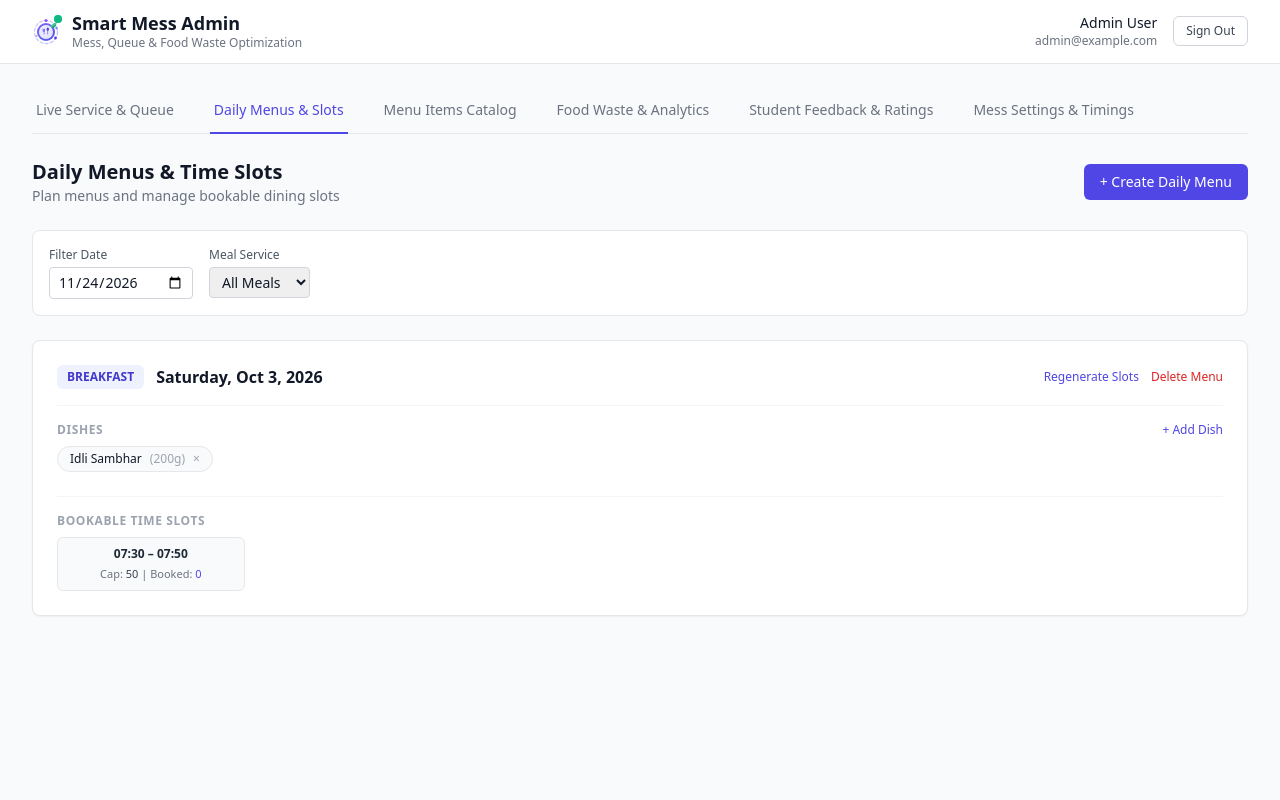
Test case: Admin Management UI (Phase 2) › should switch to Mess Settings tab and show dining hall details
The image size is (1280, 800).
Click the button "Mess Settings & Timings" at (1054, 110), box [969,88,1138,134]
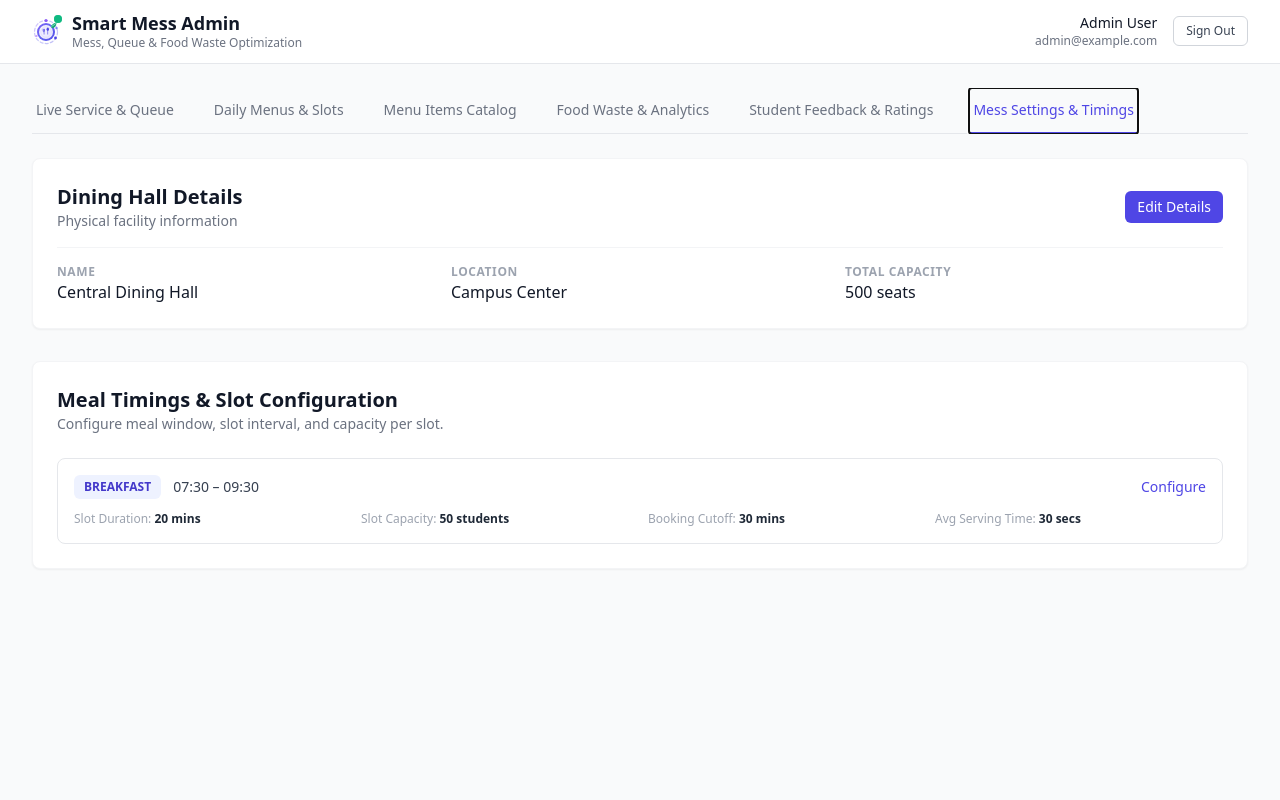
Expected: the text "Central Dining Hall" is shown, [57,280,198,302]
Expected: the text "500 seats" is shown, [845,280,916,302]
Expected: the text "07:30 – 09:30" is shown, [173,476,259,496]
